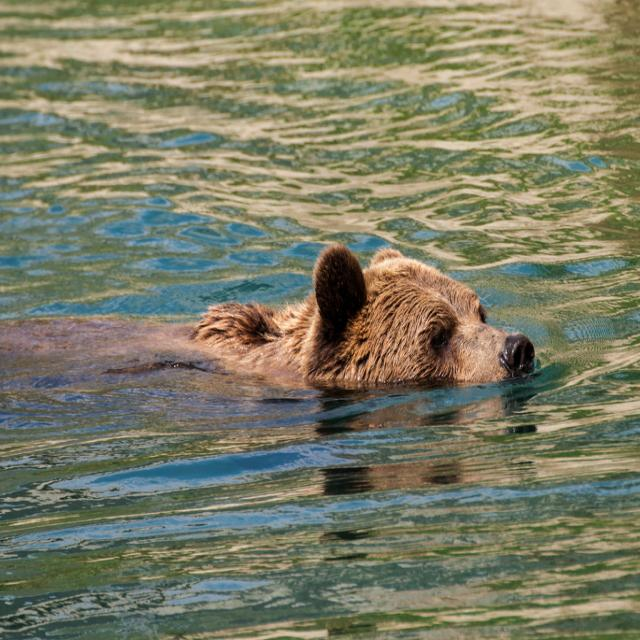Cheetahs: (0, 244, 536, 409)
